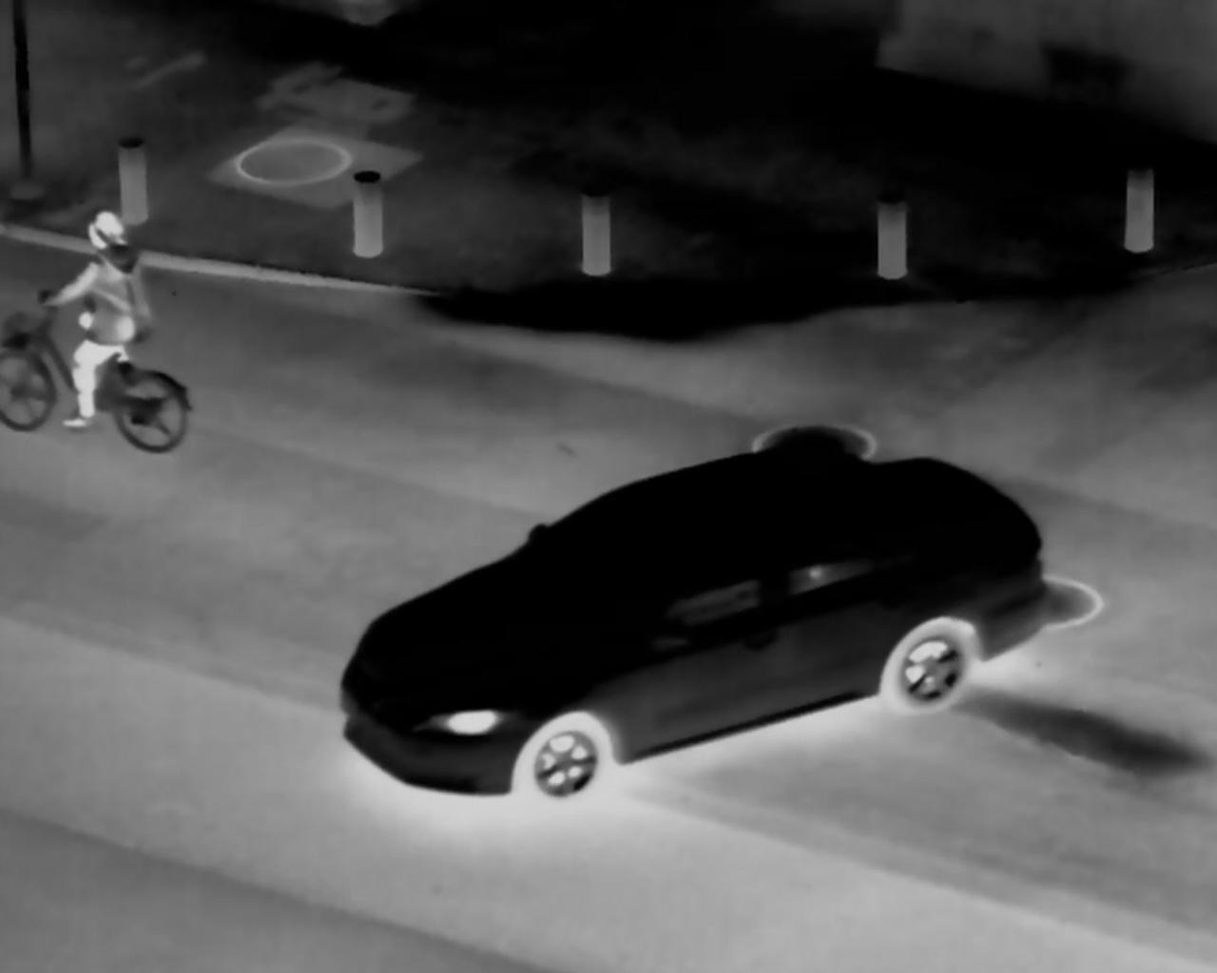person: (42, 200, 153, 438)
